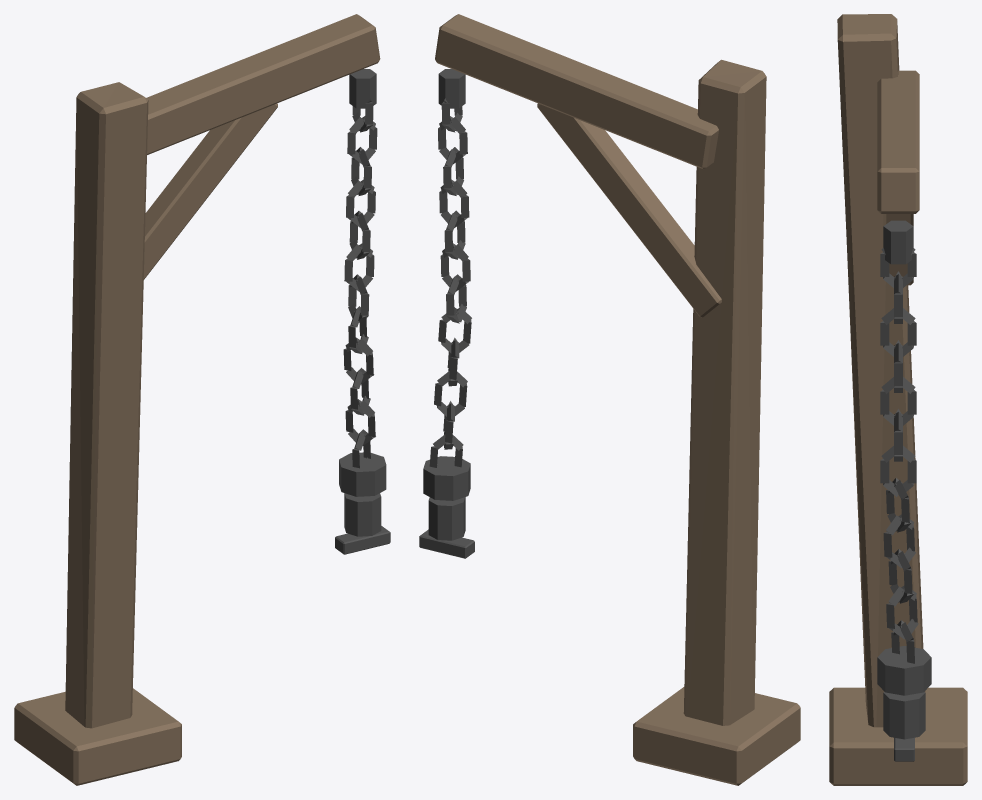
File: chain_gibbet.glb
3 views of the same model, side by side, from view 1: azimuth 30°, elevation 25°; view 2: azimuth 150°, elevation 25°; view 3: azimuth 270°, elevation 25° (orthographic). The views are drawn at different scales.
Visible parts, largest first — view 1: wood, iron; view 2: wood, iron; view 3: wood, iron.
Part boxes in pixels (x1,y1,x2,y2): wood: [14, 14, 380, 785]; iron: [335, 69, 390, 554]; wood: [435, 14, 800, 785]; iron: [419, 69, 474, 558]; wood: [829, 14, 967, 785]; iron: [877, 220, 931, 761].
Bounding box in the file's own units: 1.46 × 2.7 × 0.46.
